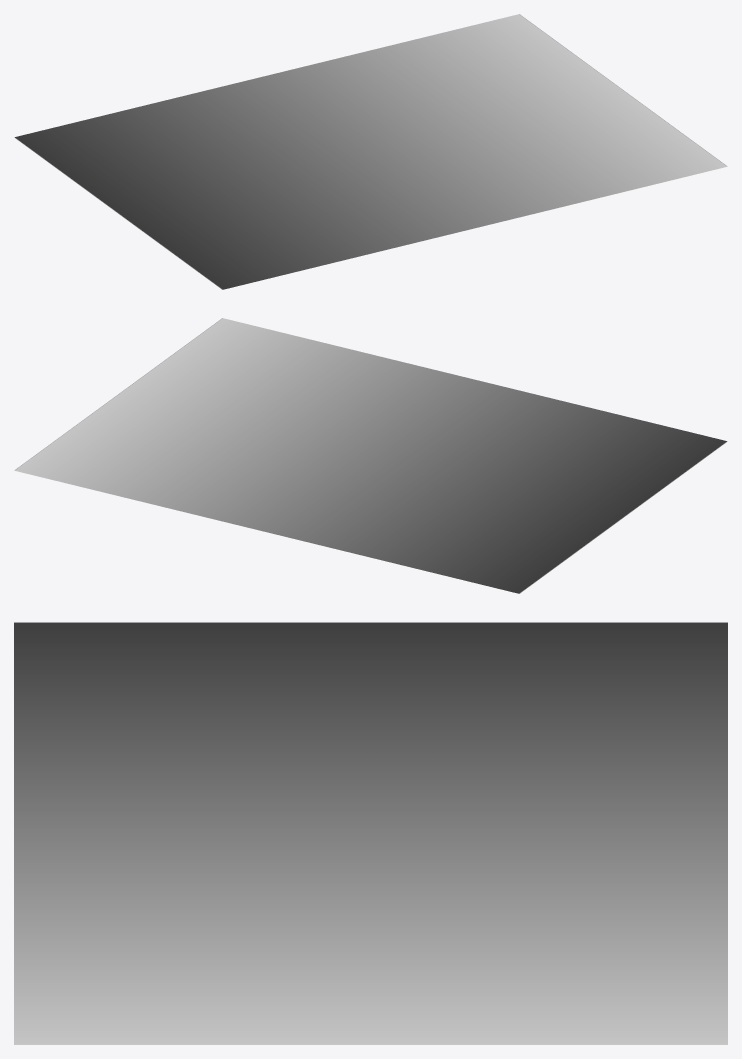
Rendered from terrain.obj.
The picture shows the model from 3 angles, top to bottom: view 1: azimuth 30°, elevation 25°; view 2: azimuth 150°, elevation 25°; view 3: azimuth 270°, elevation 25°; orthographic projection. The views are drawn at different scales.
Bounding box in the file's own units: 1.4 × 0 × 1.
1 material, 1 textured.
